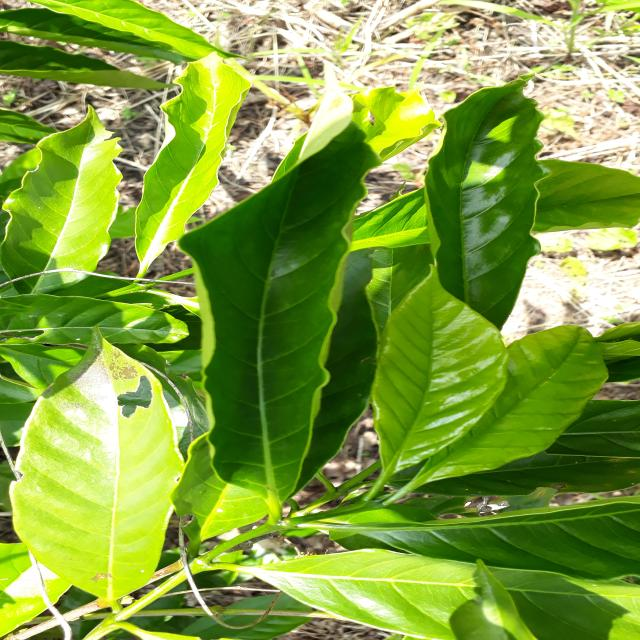Sanas: (176, 90, 431, 513)
